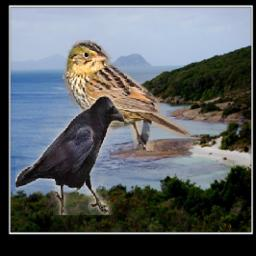Crow: (16, 95, 125, 215)
Sparrow: (64, 40, 192, 151)
